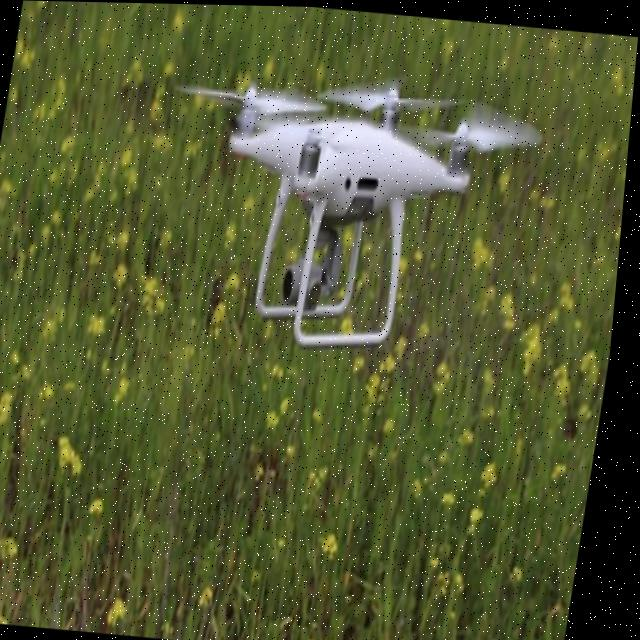drones: (119, 18, 582, 449)
